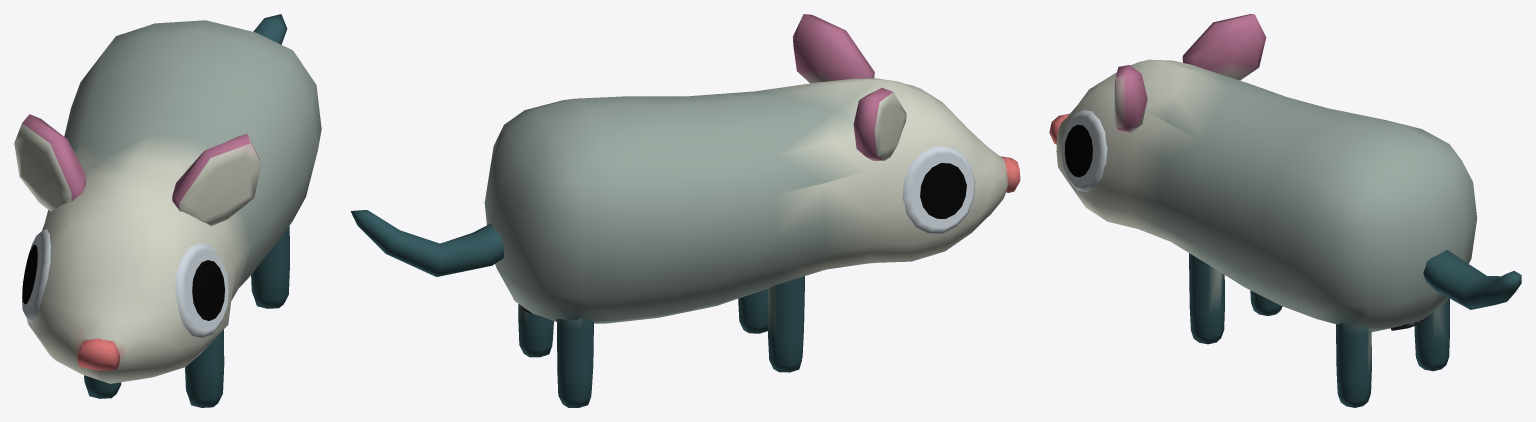
File: Possum.glb
3 renders of one model, left to right at view 1: azimuth 30°, elevation 25°; view 2: azimuth 150°, elevation 25°; view 3: azimuth 270°, elevation 25°, orthographic. The views are drawn at different scales.
Parts seen in each view (by area): view 1: 128; view 2: 128; view 3: 128.
Boxes of the visible parts, left/top/right/bottom form: 128: left=14, top=14, right=321, bottom=407; 128: left=350, top=14, right=1020, bottom=407; 128: left=1049, top=14, right=1521, bottom=407.
Size of the model in its own units: 0.7644 by 0.4834 by 0.784.
